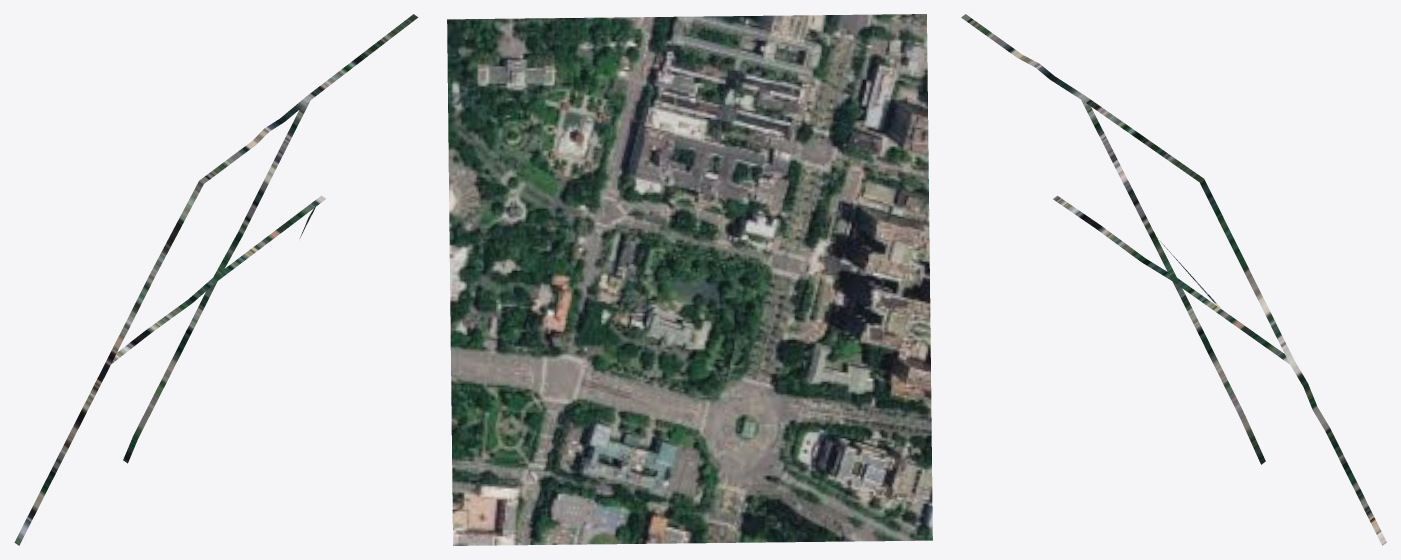
The picture shows the model from 3 angles, left to right: view 1: azimuth 30°, elevation 25°; view 2: azimuth 150°, elevation 25°; view 3: azimuth 270°, elevation 25°; orthographic projection. The views are drawn at different scales.
Bounding box in the file's own units: 612 × 555 × 517.
Materials: 1 (1 with a texture image).
